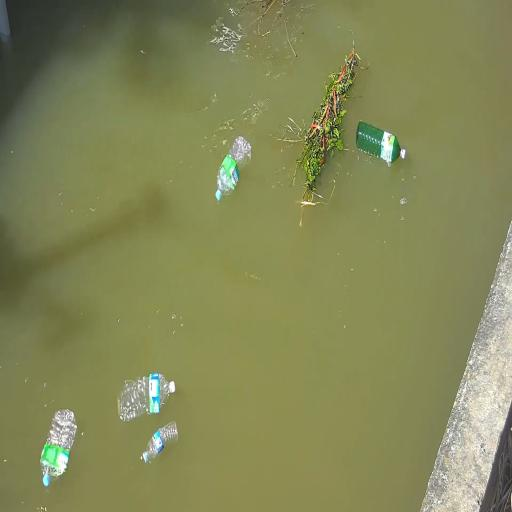plastic: (208, 129, 256, 201), (39, 410, 81, 492), (116, 372, 176, 424), (354, 118, 408, 171), (139, 421, 182, 464)
twig: (292, 52, 360, 190), (246, 0, 290, 25)
